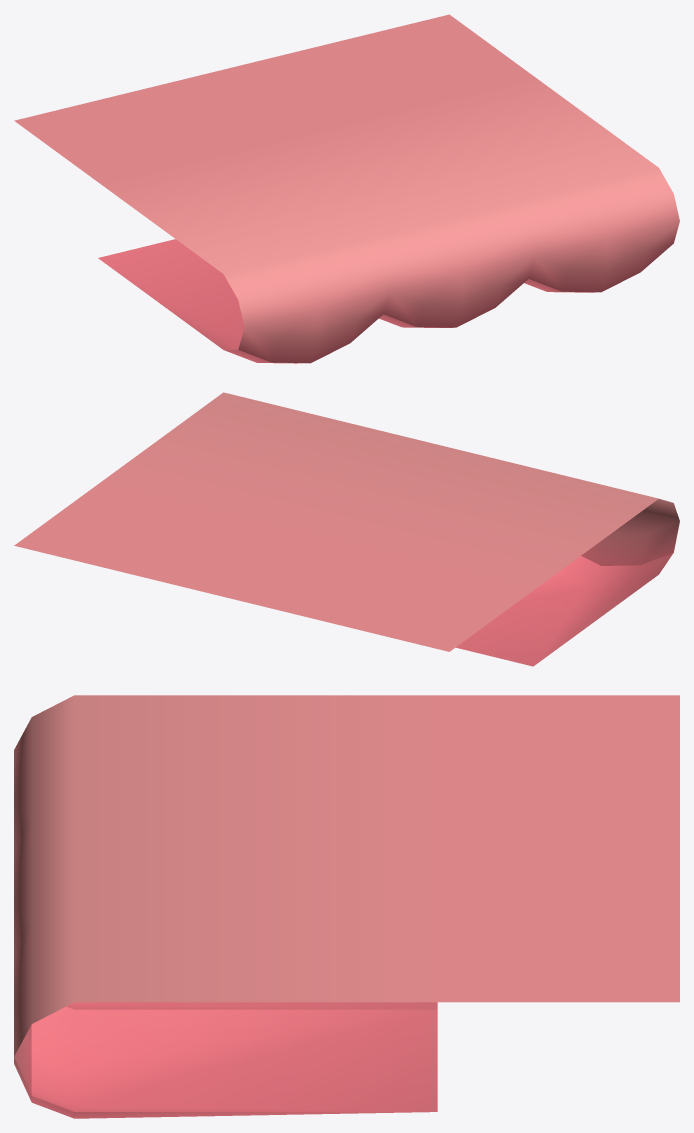
The model's file is Hill_Top_H_Side_Color8.fbx.
3 renders of one model, top to bottom at view 1: azimuth 30°, elevation 25°; view 2: azimuth 150°, elevation 25°; view 3: azimuth 270°, elevation 25°, orthographic. The views are drawn at different scales.
Visible parts, largest first — view 1: Hill_Top_H_Side_Color8; view 2: Hill_Top_H_Side_Color8; view 3: Hill_Top_H_Side_Color8.
Boxes of the visible parts, <box> form: Hill_Top_H_Side_Color8: <box>14,14,679,363</box>; Hill_Top_H_Side_Color8: <box>14,392,679,666</box>; Hill_Top_H_Side_Color8: <box>14,695,679,1118</box>.
Size of the model in its own units: 3 by 0.7052 by 2.75.
